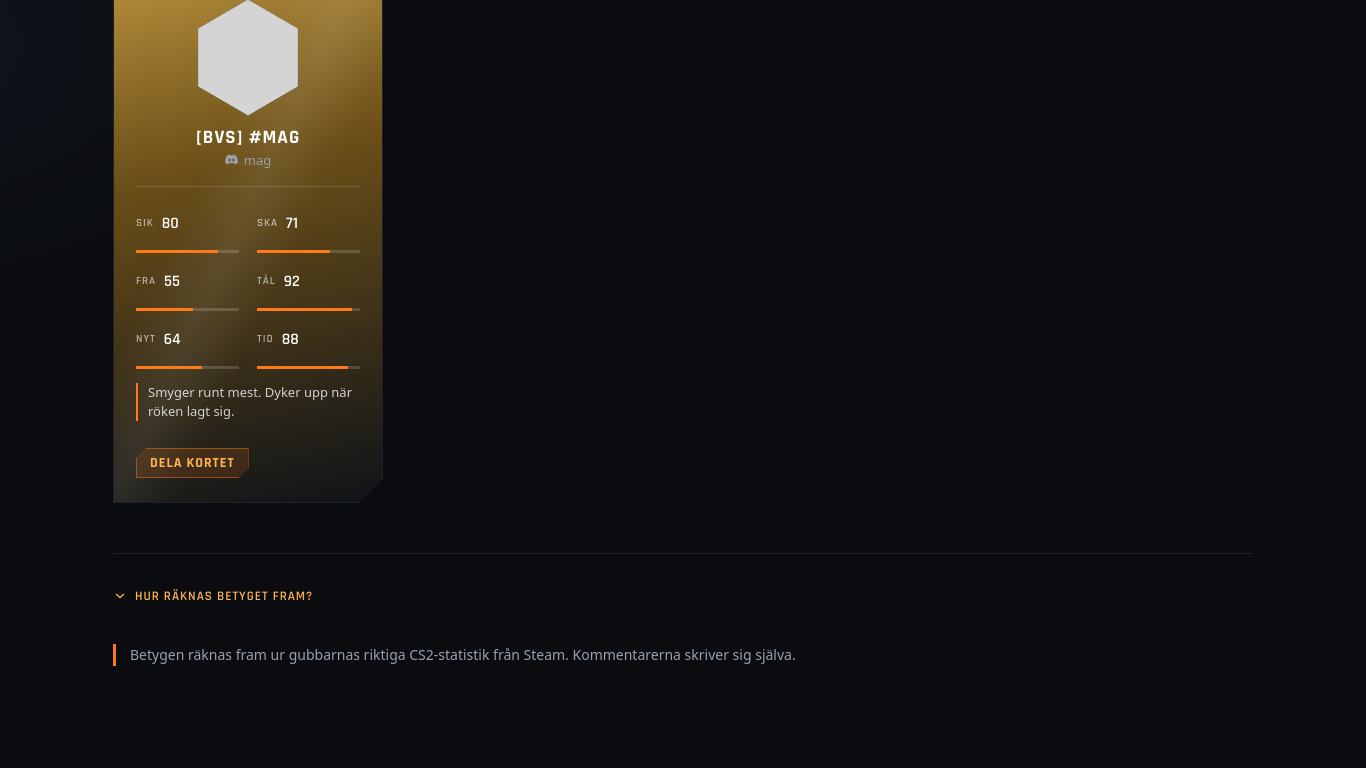
the attribute legend › explains that another game only ever adds to the score, never subtracts, and that titles come from BVS itself
(page scrolled)
Click the button "Hur räknas betyget fram?" at [213, 596], box [113, 574, 313, 618]
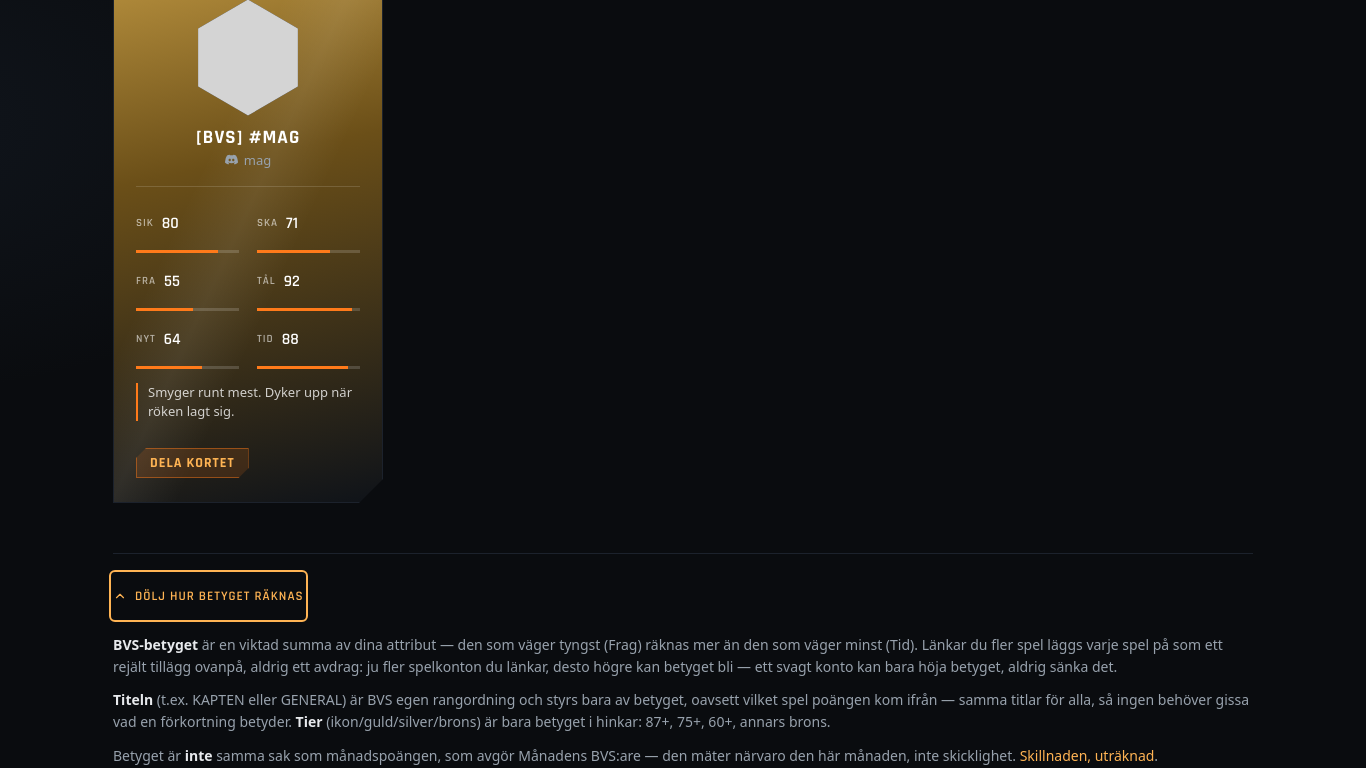
Now the text "ju fler spelkonton" is shown, box [113, 635, 1223, 676]
Now the text "egen rangordning" is shown, box [113, 690, 1249, 731]
